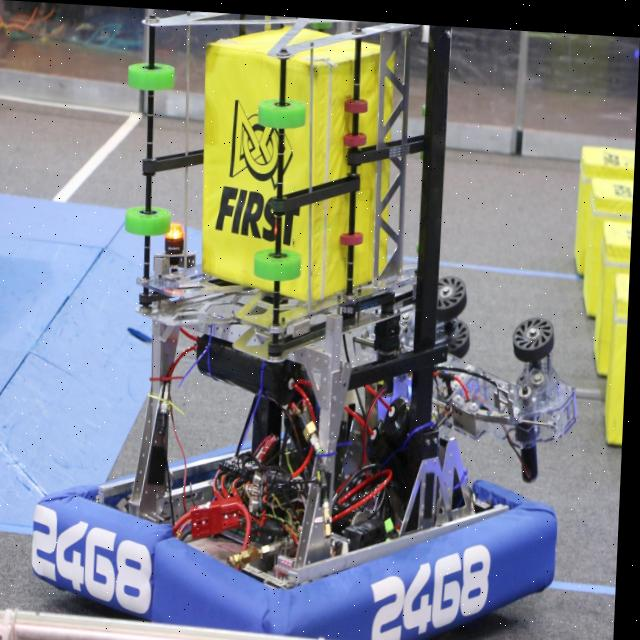robot: (32, 8, 581, 640)
